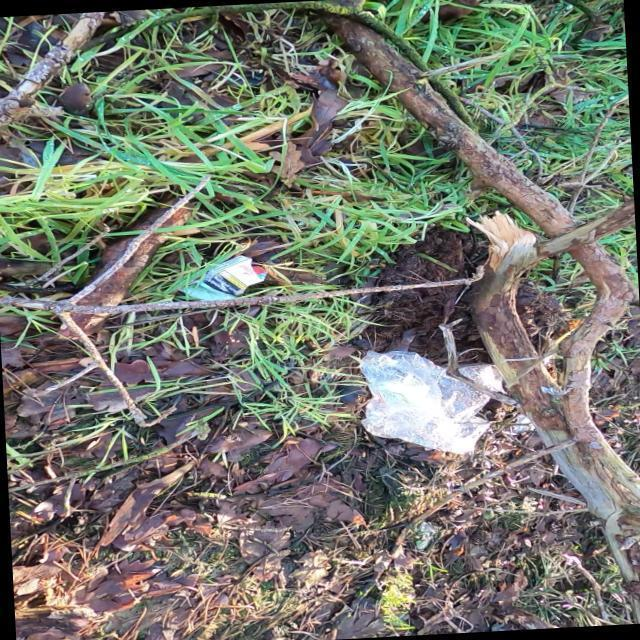Paper: (176, 252, 270, 302)
